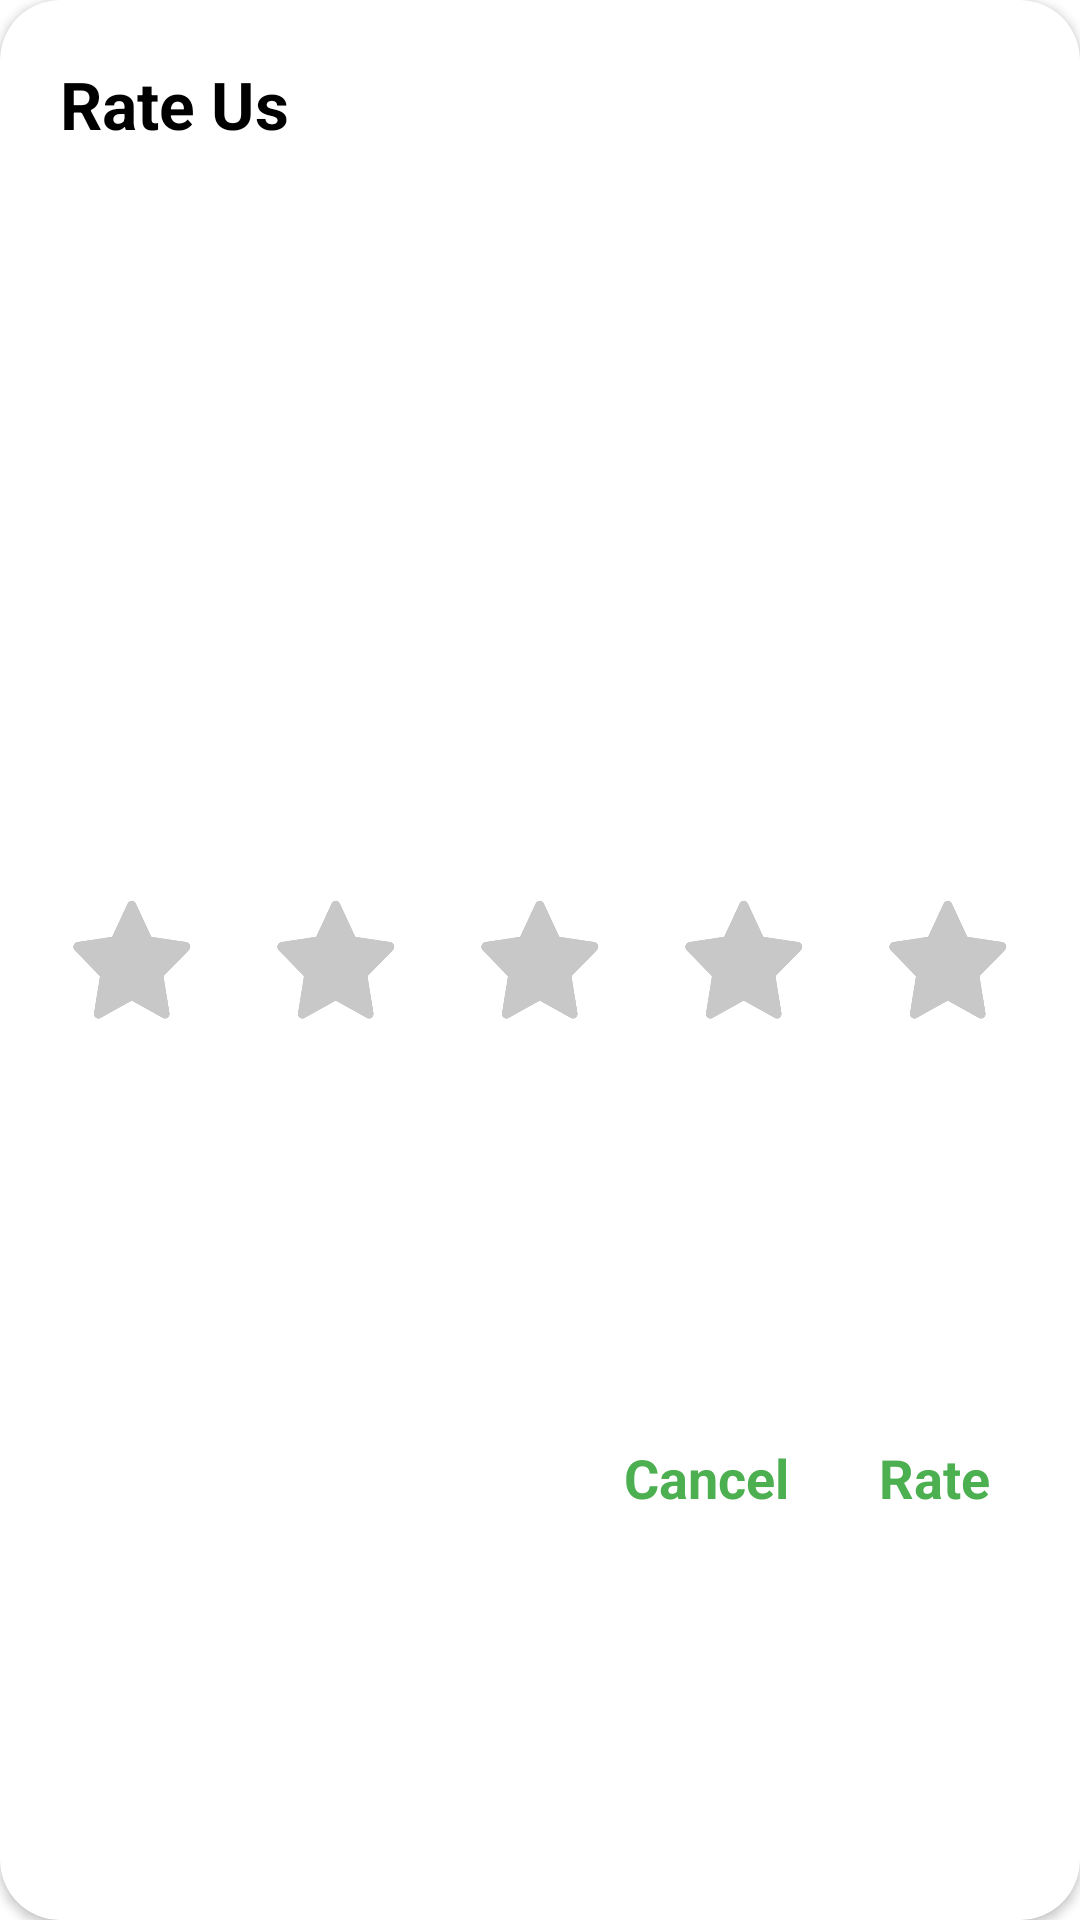

Named icons in this screenshot (1080w x 1920h) and their bounding boxes, [left=x1, top=y1, right=x2, bottom=y2]:
star: [left=73, top=901, right=190, bottom=1019], [left=277, top=901, right=394, bottom=1019], [left=481, top=901, right=598, bottom=1019], [left=685, top=901, right=802, bottom=1019], [left=889, top=901, right=1006, bottom=1019]
